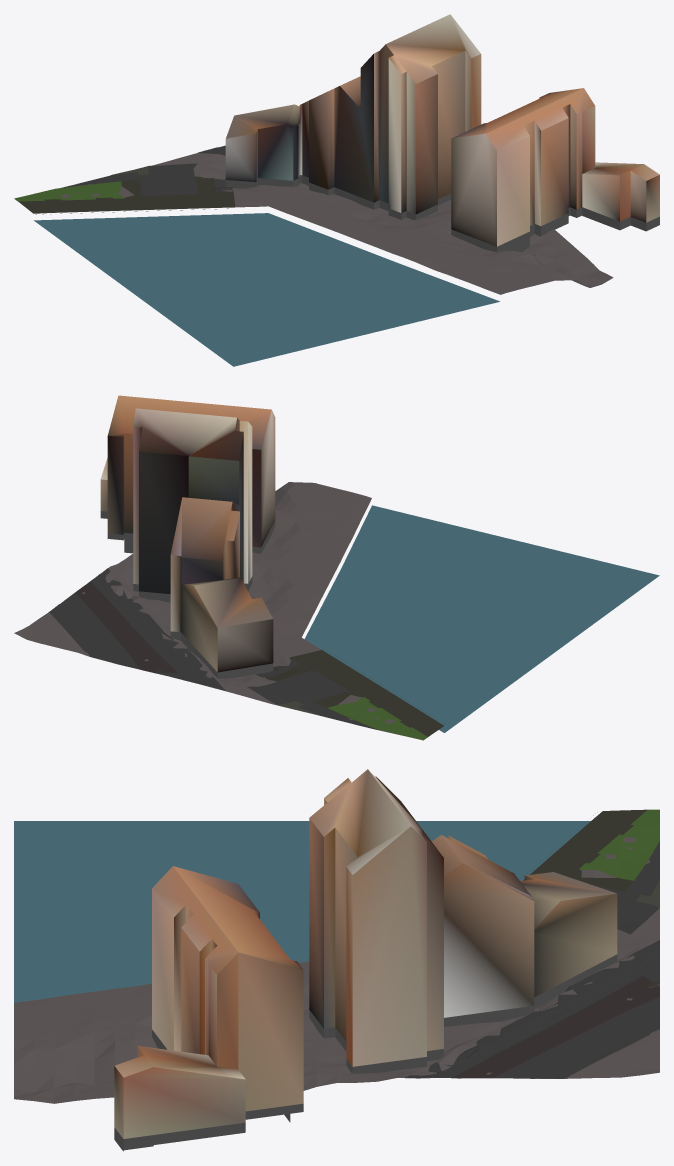
The picture shows the model from 3 angles, top to bottom: view 1: azimuth 30°, elevation 25°; view 2: azimuth 150°, elevation 25°; view 3: azimuth 270°, elevation 25°; orthographic projection. The views are drawn at different scales.
Parts seen in each view (by area): view 1: c_m10_p08; view 2: c_m10_p08; view 3: c_m10_p08.
Boxes of the visible parts, box(x1,y1,x2,y2) form: c_m10_p08: box(14, 14, 659, 366); c_m10_p08: box(14, 395, 659, 740); c_m10_p08: box(14, 769, 659, 1151).
Bounding box in the file's own units: 156 × 58.64 × 128.
